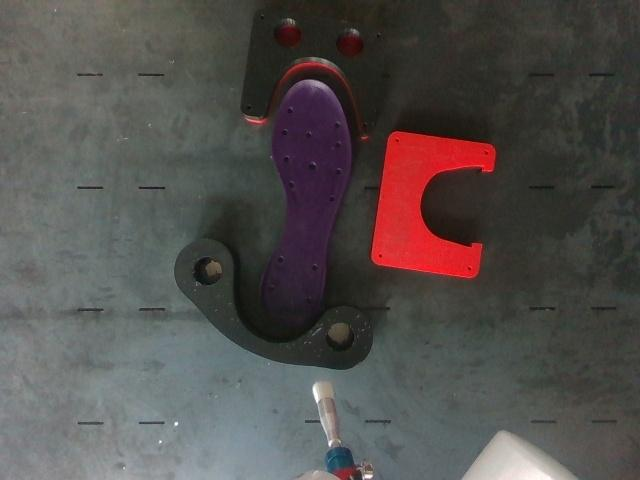shoes: (261, 79, 351, 329)
